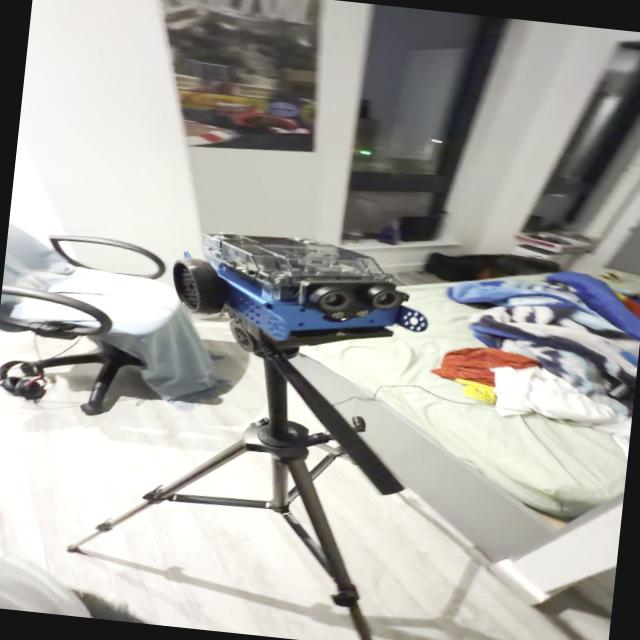mbot-detection: (157, 218, 438, 356)
